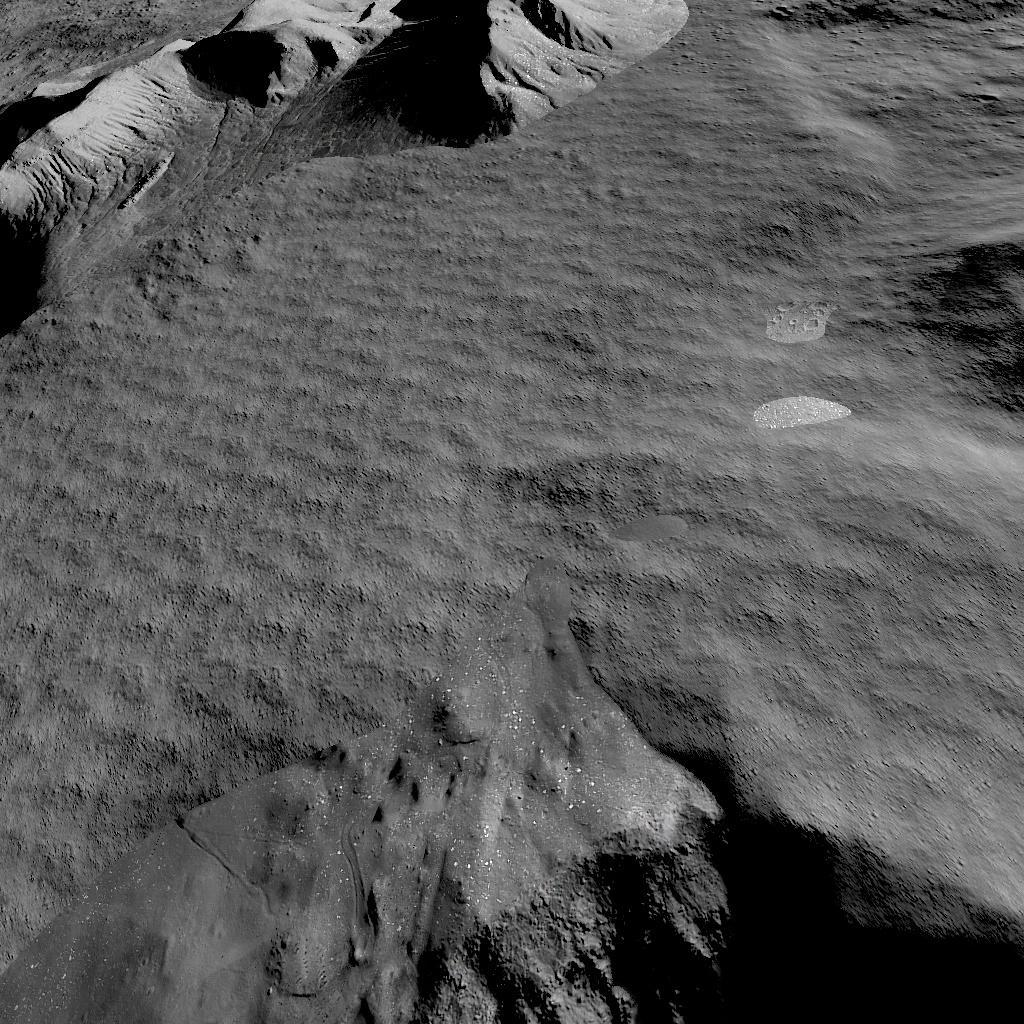Boulders: (0, 0, 690, 335)
Crater: (0, 562, 1024, 1024), (931, 238, 1024, 416)
Plan surface: (0, 352, 914, 550)
